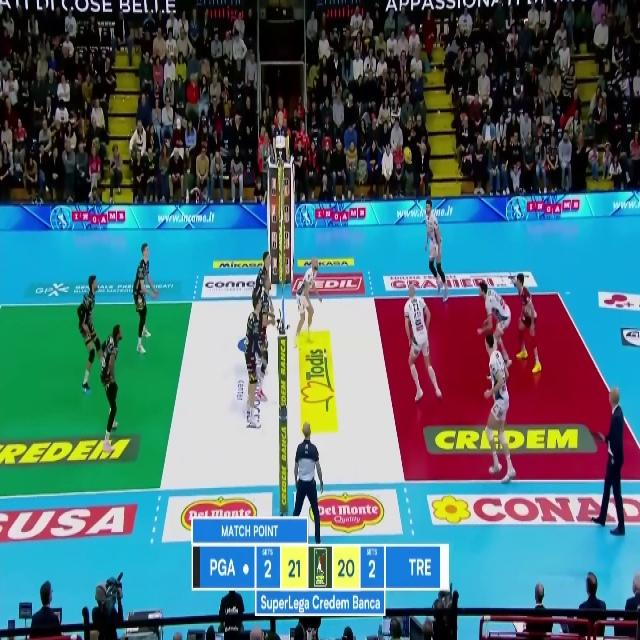volleyball court: (0, 288, 637, 501)
